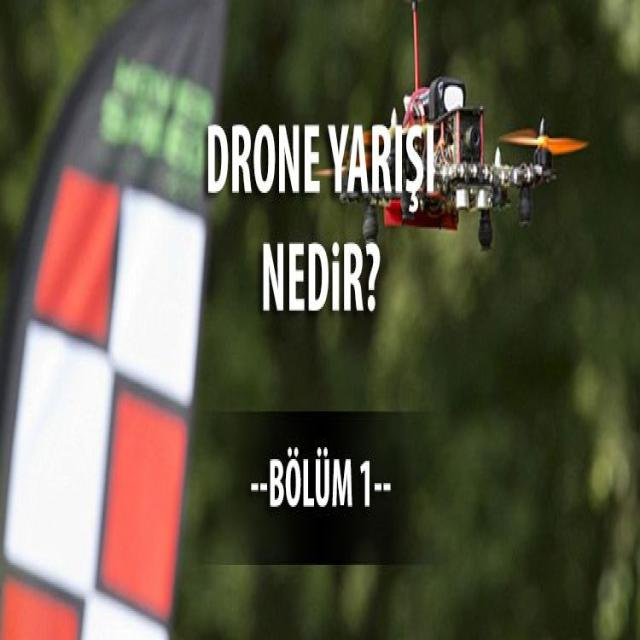drone: (297, 102, 597, 239)
